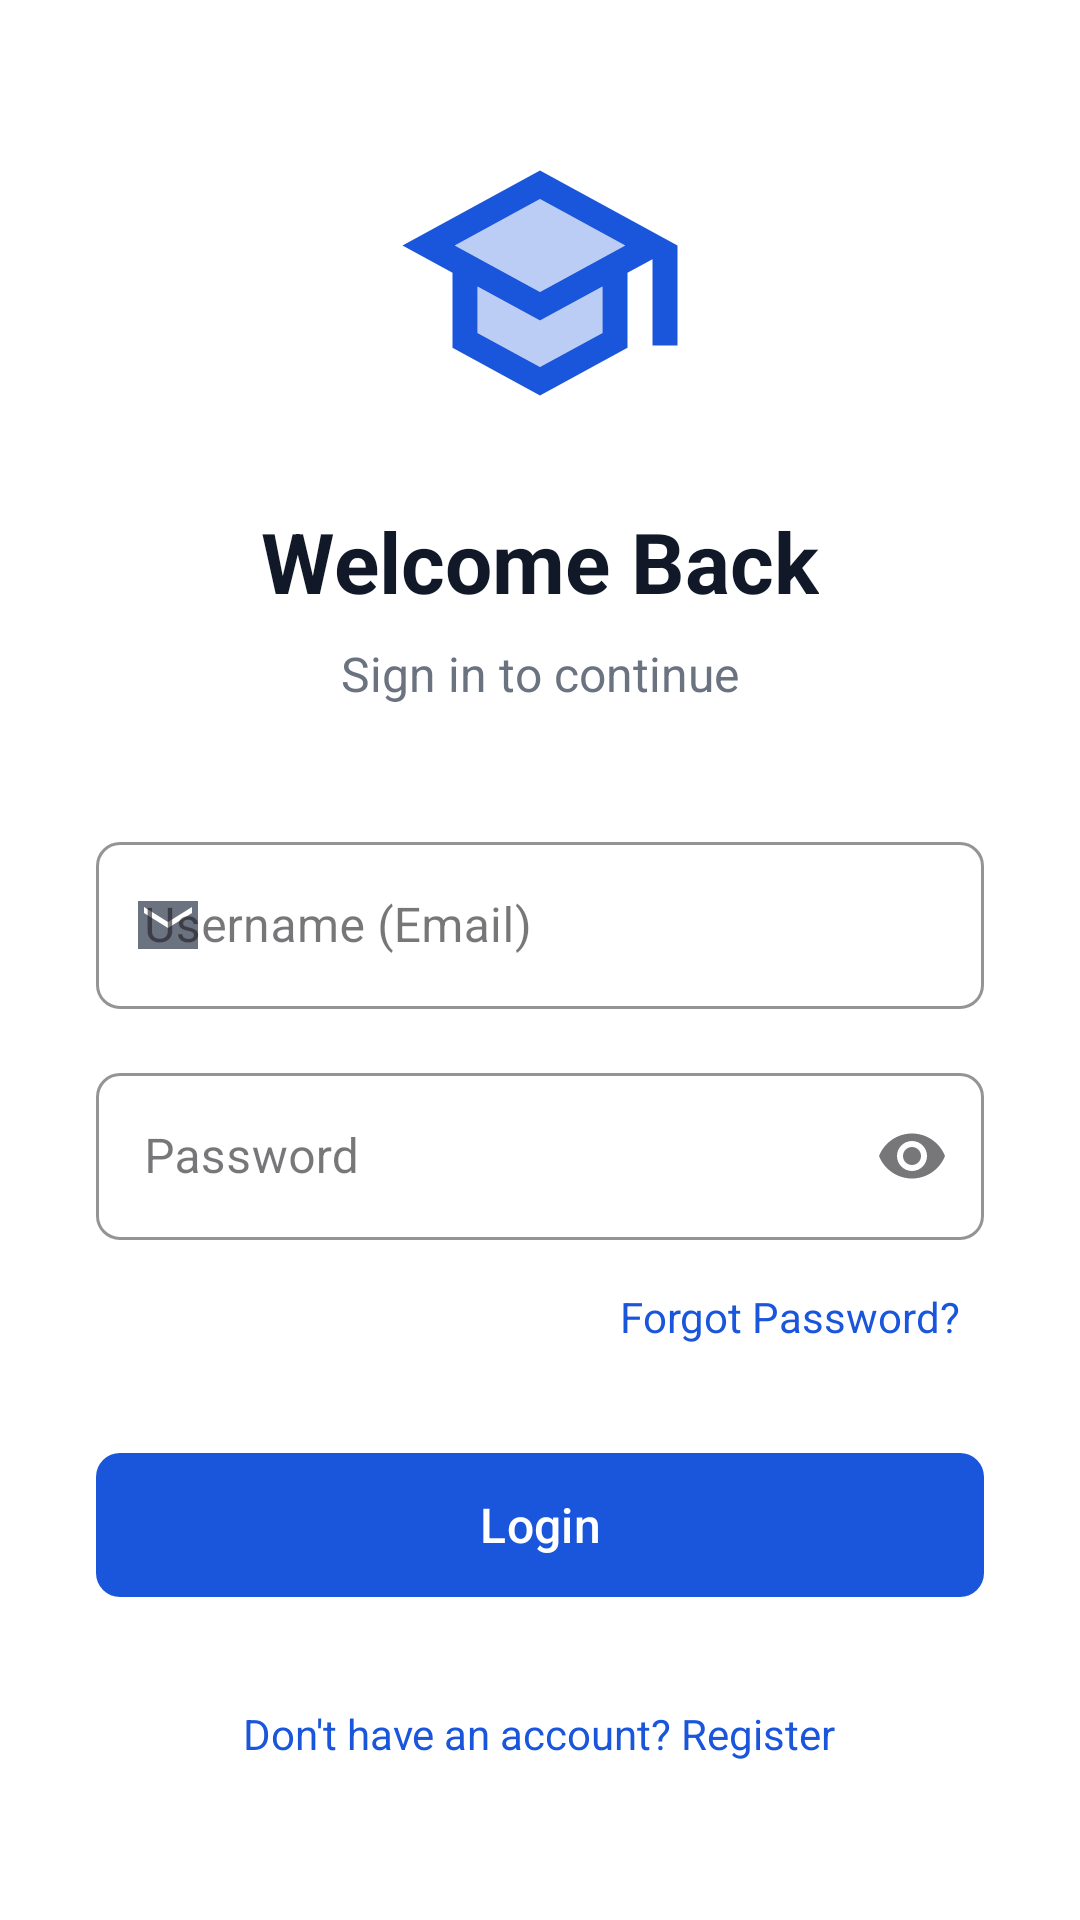

Named icons in this screenshot (1080 × 1920) and their centers, (x,y):
school hat: (540,283)
